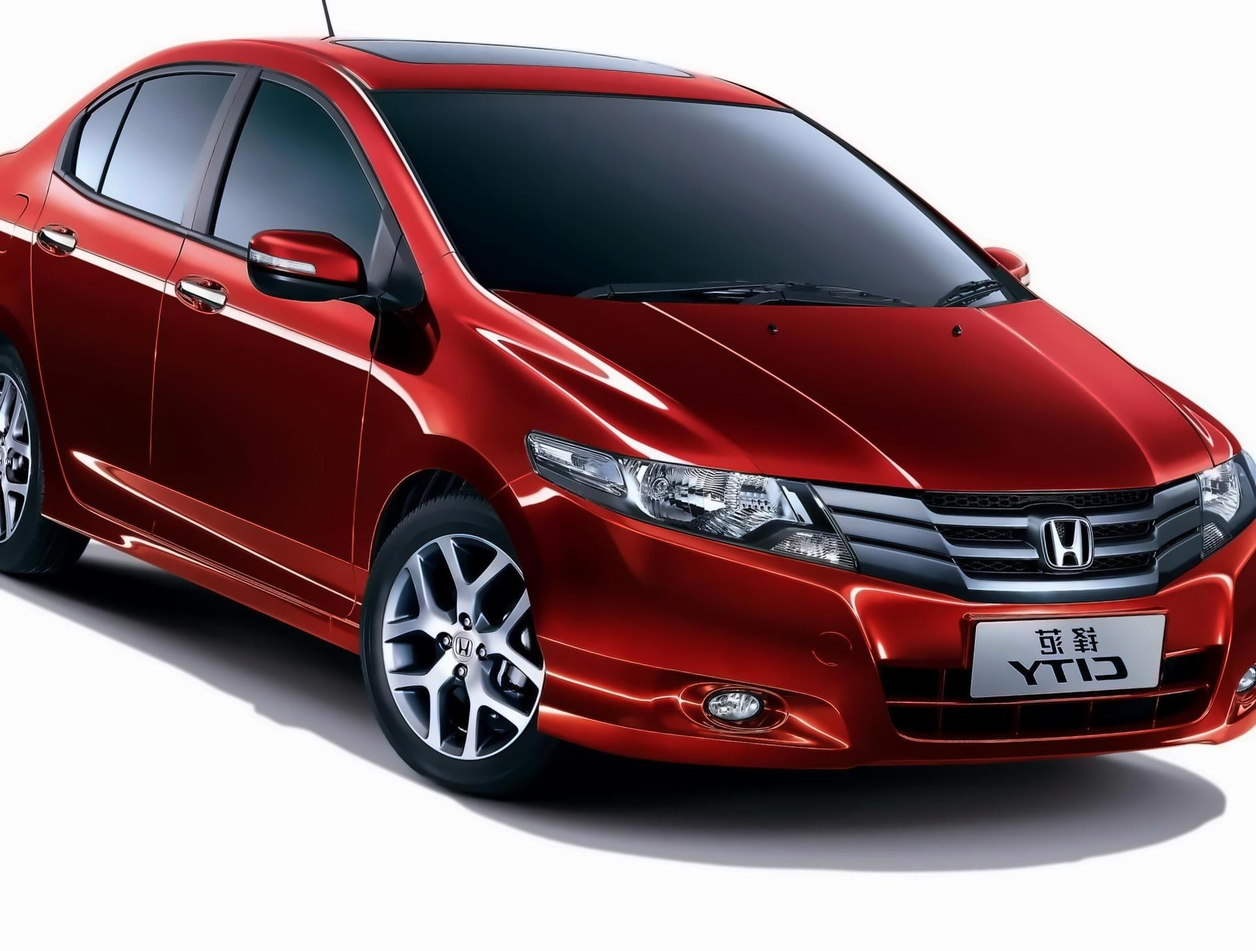Car hood: (494, 283, 1230, 500)
Driver-s door - -F-R-: (156, 56, 364, 614)
Fender - -F-R-: (349, 244, 533, 641)
Front bumper: (503, 497, 1256, 781)
Headlight - -L-: (1174, 443, 1256, 571)
Headlight - -R-: (511, 418, 863, 579)
Passenger-s door - -R-R-: (29, 56, 186, 557)
Side bumper - -R-: (0, 442, 376, 683)
Side mirror - -L-: (974, 227, 1046, 302)
Side mirror - -R-: (238, 220, 397, 321)
